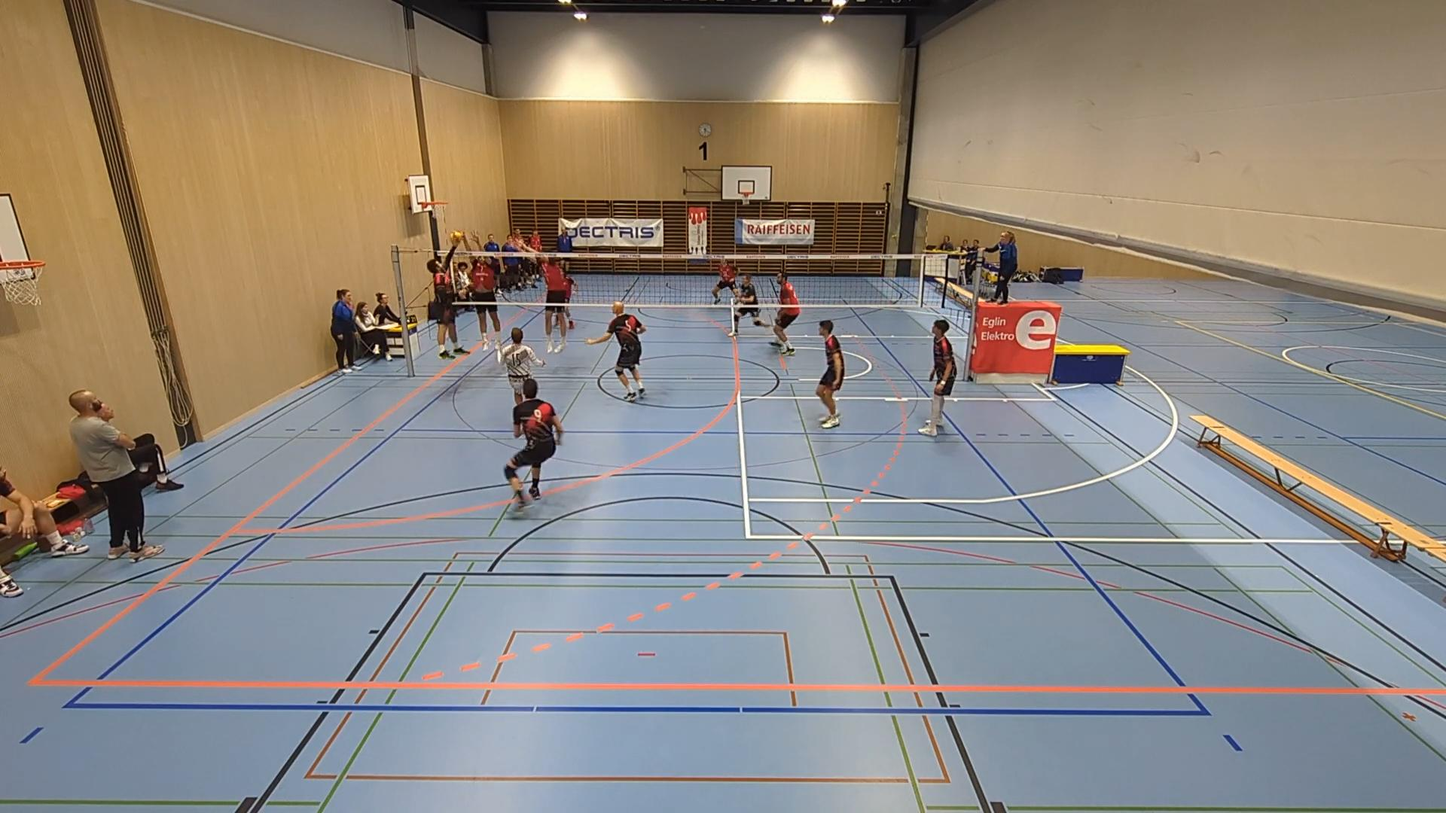attacco: (417, 240, 469, 360)
muro: (508, 233, 575, 360), (458, 222, 511, 359)
